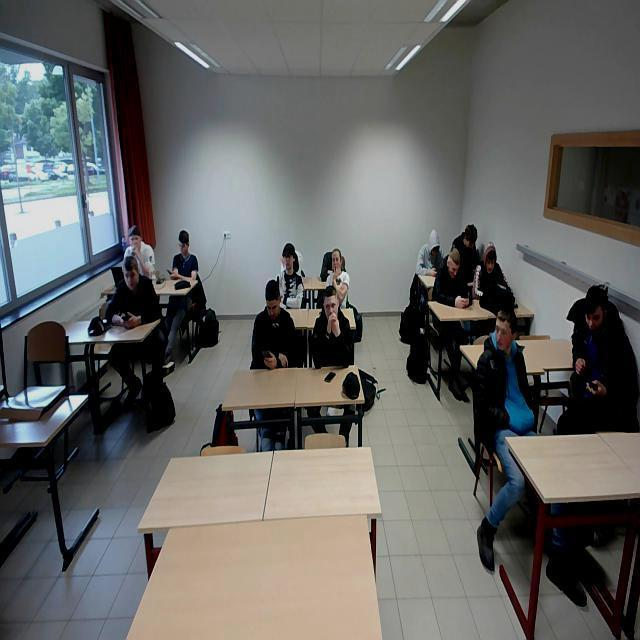Looking away: (496, 312, 513, 352), (486, 247, 499, 274)
Looking forward: (324, 286, 339, 319), (125, 228, 144, 248), (329, 248, 344, 272), (284, 246, 295, 271)
Phone use: (560, 280, 636, 428), (248, 286, 300, 370), (104, 258, 156, 332), (432, 244, 482, 319), (168, 224, 202, 286), (413, 225, 450, 278)
